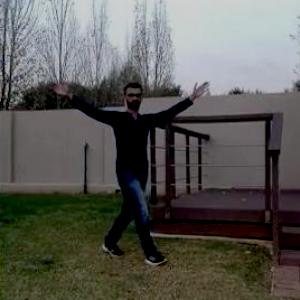takeoff: (48, 85, 199, 264)
